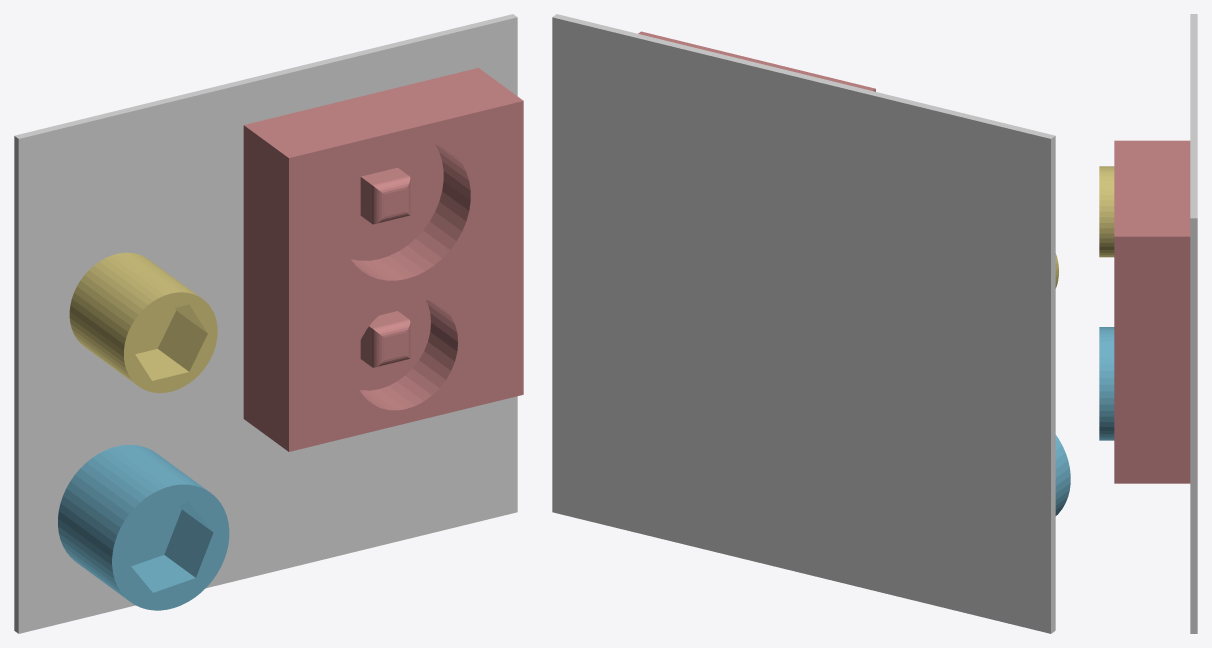
Rendered from pickup_layout.glb.
The picture shows the model from 3 angles, left to right: view 1: azimuth 30°, elevation 25°; view 2: azimuth 150°, elevation 25°; view 3: azimuth 270°, elevation 25°; orthographic projection. The views are drawn at different scales.
Parts seen in each view (by area): view 1: world, 0.obj, 2.obj, 1.obj; view 2: world, 2.obj, 0.obj; view 3: 0.obj, world, 2.obj, 1.obj.
Part boxes in pixels (left/top/right/bottom): world: left=14, top=14, right=517, bottom=633; 0.obj: left=243, top=68, right=523, bottom=451; 2.obj: left=58, top=445, right=229, bottom=610; 1.obj: left=69, top=252, right=217, bottom=393; world: left=552, top=14, right=1055, bottom=633; 2.obj: left=1055, top=435, right=1070, bottom=515; 0.obj: left=638, top=31, right=875, bottom=91; 0.obj: left=1114, top=140, right=1190, bottom=483; world: left=1190, top=14, right=1197, bottom=633; 2.obj: left=1099, top=327, right=1114, bottom=440; 1.obj: left=1099, top=166, right=1114, bottom=257.
Bounding box in the file's own units: 12.75 × 12.08 × 2.6.
